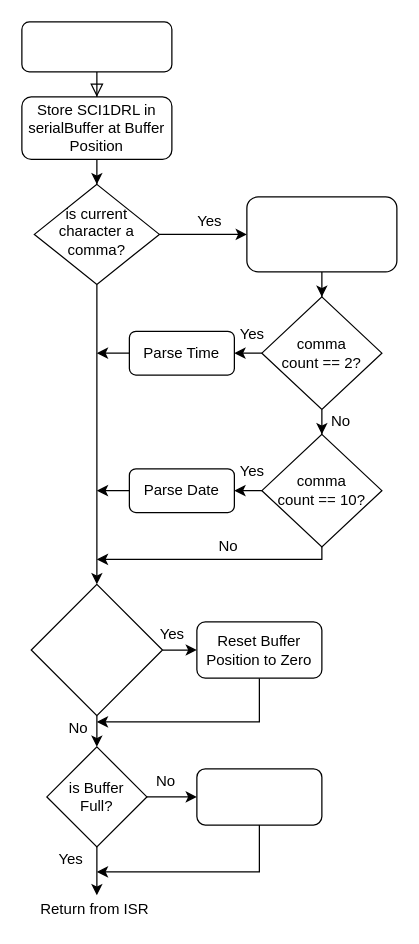
This 419x944 diagram has some shape labels left out. The shapes that lost their labels are listed below. From the top down, each one's centre as x and y in pixels, then its label:
point (96, 46): SCI1_ISR
point (321, 234): comma Count++
point (96, 649): Is current character a carraige return?
point (259, 796): Buffer Position++
